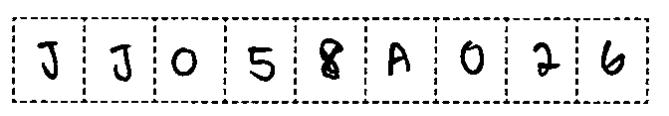0: (451, 35, 491, 83), (163, 41, 205, 83)
2: (523, 37, 569, 81)
5: (241, 40, 283, 86)
6: (592, 35, 631, 81)
8: (312, 34, 352, 84)
A: (381, 39, 417, 82)
J: (102, 41, 140, 88), (32, 36, 66, 84)
